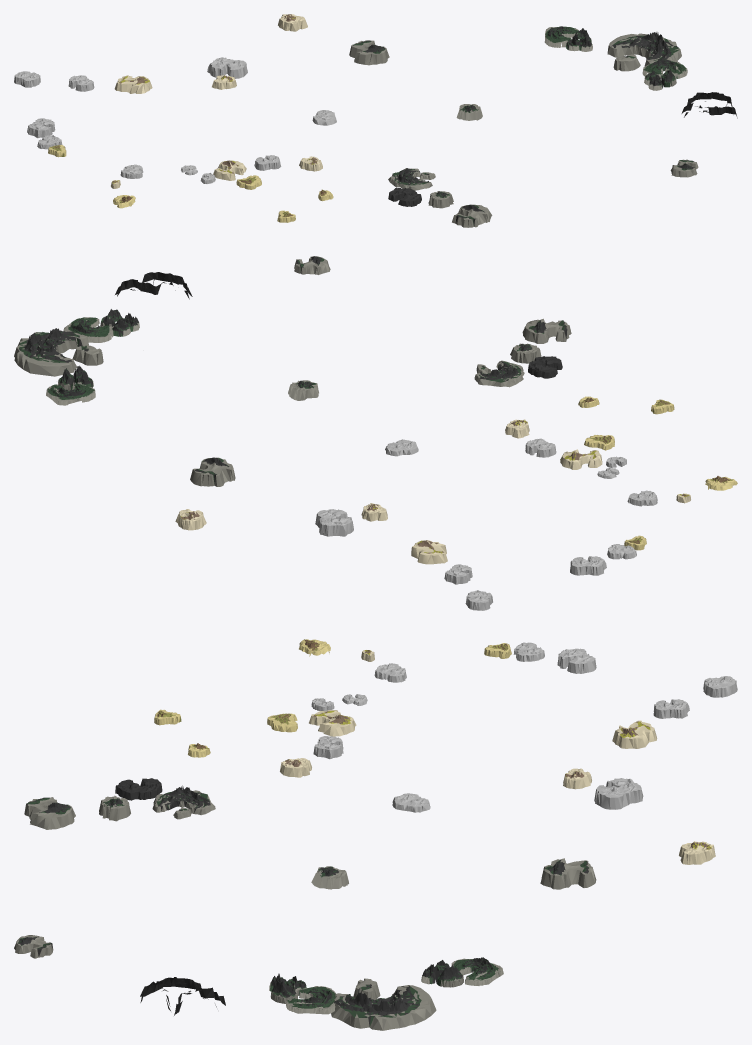
The model's file is samllisland.fbx.
3 views of the same model, one above another, from view 1: azimuth 30°, elevation 25°; view 2: azimuth 150°, elevation 25°; view 3: azimuth 270°, elevation 25° (orthographic). The views are drawn at different scales.
Visible parts, largest first — view 1: out009, island003.003, island003.004, island003.001, island003.002, out008, islet008.002, out010, out001, islet016, islet008.003, islet013.002 (+3 smaller); view 2: out009, island003.003, island003.001, island003.004, island003.002, out008, islet008.002, out010, out001, islet016, islet008.003; view 3: out009, island003.003, island003.004, island003.001, island003.002, out008, islet008.002, out010, out001, islet016, islet008.003, islet013.002 (+3 smaller).
Boxes of the visible parts, bbox=[...] form: out009: bbox=[607, 32, 681, 71]; island003.003: bbox=[388, 168, 435, 206]; island003.004: bbox=[428, 191, 492, 227]; island003.001: bbox=[642, 59, 687, 90]; island003.002: bbox=[544, 26, 592, 51]; out008: bbox=[349, 40, 389, 65]; islet008.002: bbox=[207, 57, 247, 78]; out010: bbox=[681, 92, 737, 118]; out001: bbox=[114, 75, 152, 93]; islet016: bbox=[213, 160, 246, 180]; islet008.003: bbox=[27, 118, 55, 138]; islet013.002: bbox=[278, 14, 307, 31]; out009: bbox=[14, 328, 103, 376]; island003.003: bbox=[474, 356, 562, 387]; island003.001: bbox=[63, 309, 139, 342]; island003.004: bbox=[510, 318, 571, 363]; island003.002: bbox=[46, 365, 95, 405]; out008: bbox=[190, 457, 235, 486]; islet008.002: bbox=[315, 509, 353, 536]; out010: bbox=[115, 272, 192, 299]; out001: bbox=[411, 540, 447, 564]; islet016: bbox=[560, 449, 602, 469]; islet008.003: bbox=[570, 556, 606, 575]; out009: bbox=[331, 978, 436, 1030]; island003.003: bbox=[115, 778, 215, 819]; island003.004: bbox=[24, 795, 130, 829]; island003.001: bbox=[269, 973, 335, 1014]; island003.002: bbox=[421, 957, 503, 987]; out008: bbox=[540, 858, 596, 889]; islet008.002: bbox=[594, 778, 643, 809]; out010: bbox=[140, 977, 225, 1015]; out001: bbox=[612, 720, 657, 748]; islet016: bbox=[309, 710, 356, 736]; islet008.003: bbox=[557, 648, 596, 673]; islet013.002: bbox=[679, 841, 715, 864].
Bounding box in the file's own units: 70.95 × 88.8 × 2.82.
